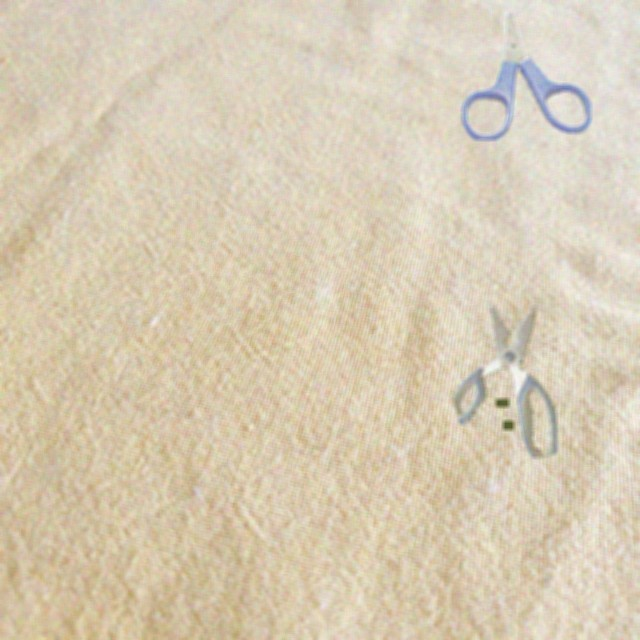scissors: (462, 10, 591, 140), (452, 303, 557, 458)
